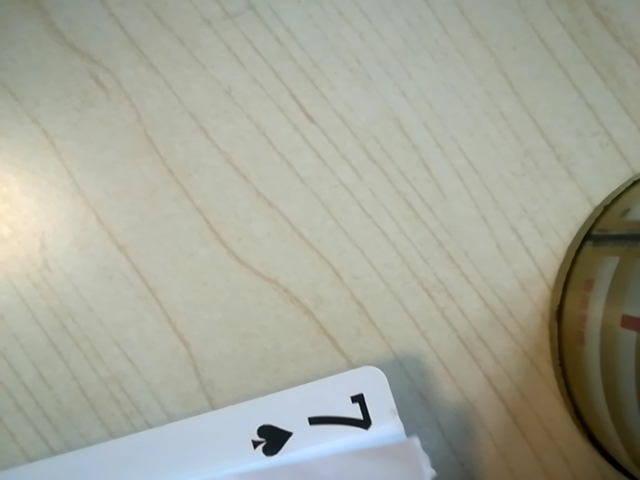ht 7: (224, 385, 408, 463)
